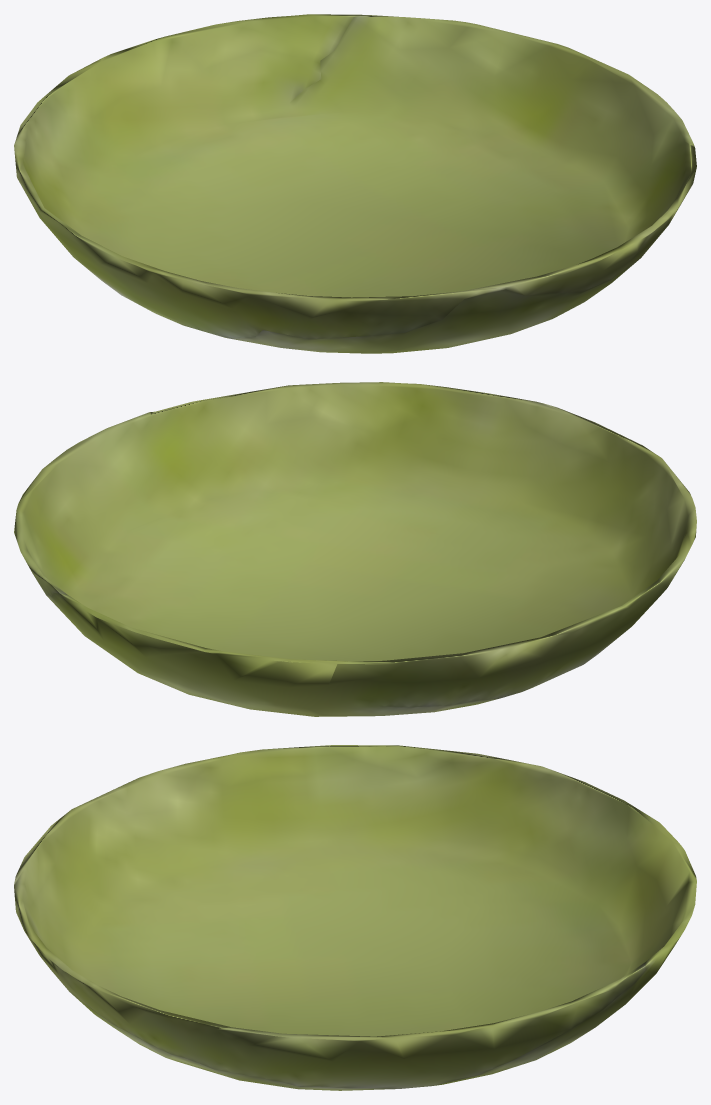
File: Ecoforms_Plate_S20Avocado-medium.glb
3 views of the same model, one above another, from view 1: azimuth 30°, elevation 25°; view 2: azimuth 150°, elevation 25°; view 3: azimuth 270°, elevation 25° (orthographic).
Parts seen in each view (by area): view 1: Ecoforms_Plate_S20Avocado; view 2: Ecoforms_Plate_S20Avocado; view 3: Ecoforms_Plate_S20Avocado.
Part boxes in pixels (x1,y1,x2,y2): Ecoforms_Plate_S20Avocado: (14, 14, 696, 353); Ecoforms_Plate_S20Avocado: (14, 382, 696, 716); Ecoforms_Plate_S20Avocado: (14, 745, 696, 1090).
Size of the model in its own units: 0.2067 by 0.0321 by 0.2062.
1 material, 1 textured.
